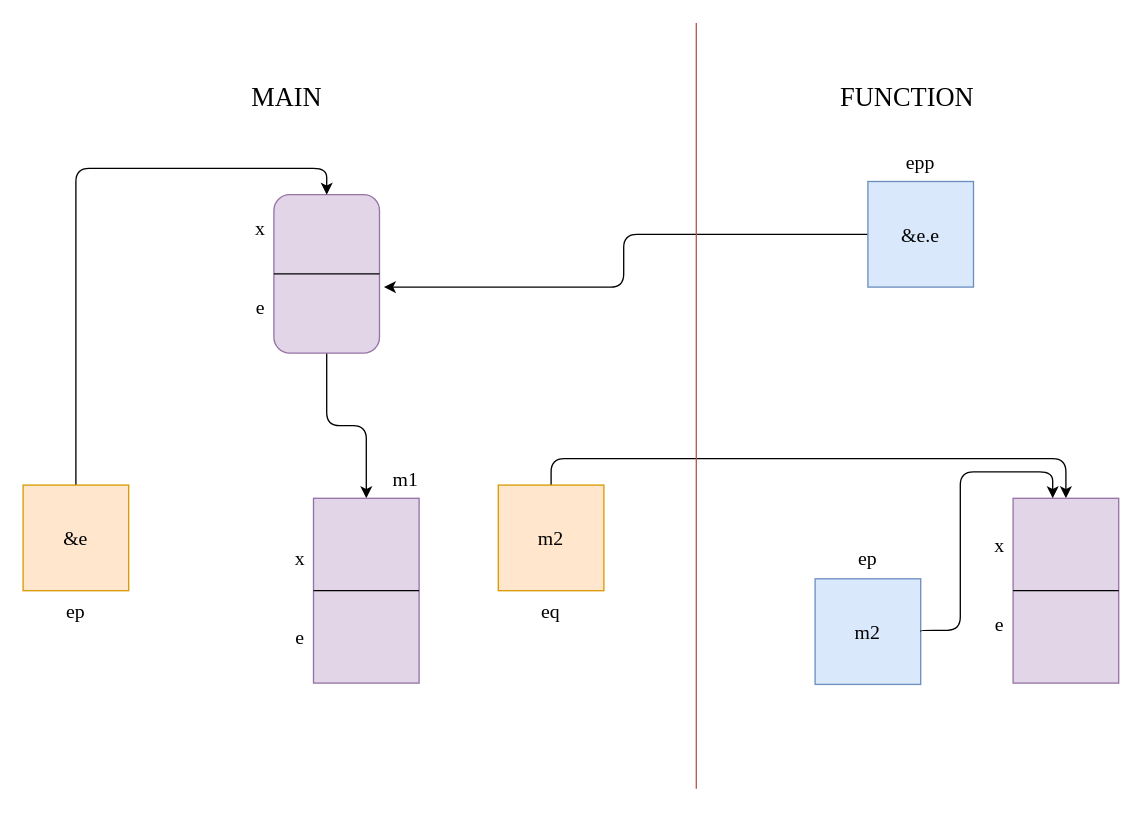
Some shapes in this 1143 by 813 pixel diagram are drawn without their labels. Here are the shapes that lost their labels. From the top down, the centre of each, then its label:
At [326,273]: "1.2 m1".
At [1065,590]: "1.2 NULL".
